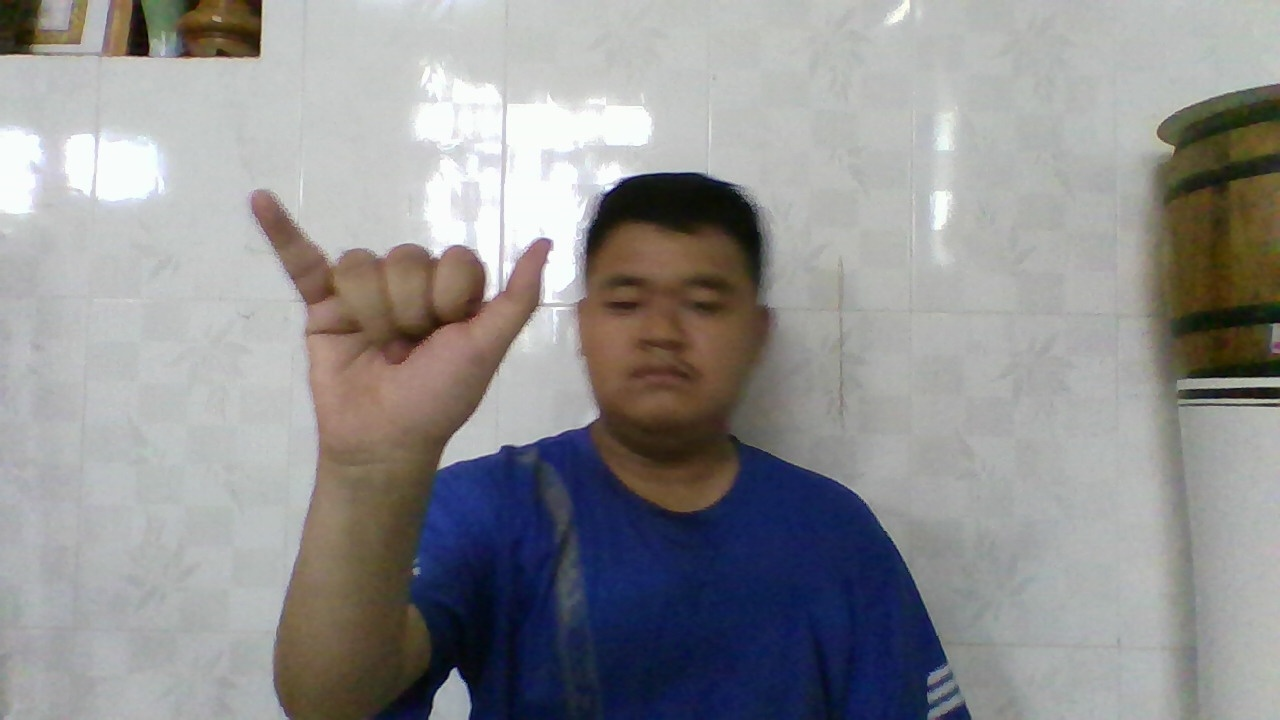Y: (247, 187, 555, 465)
